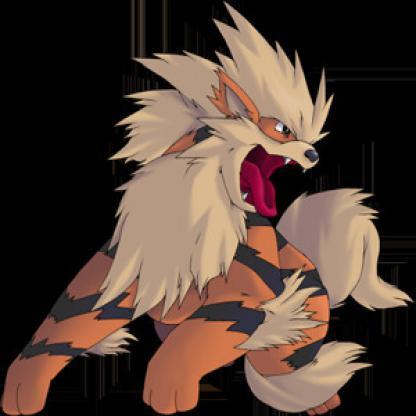Arcanine: (29, 23, 385, 416)
